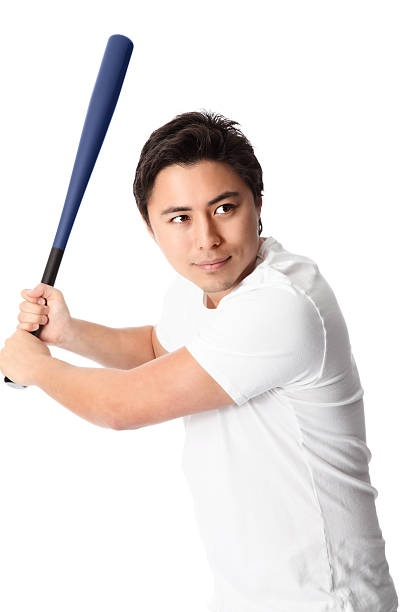bita: (13, 25, 132, 376)
